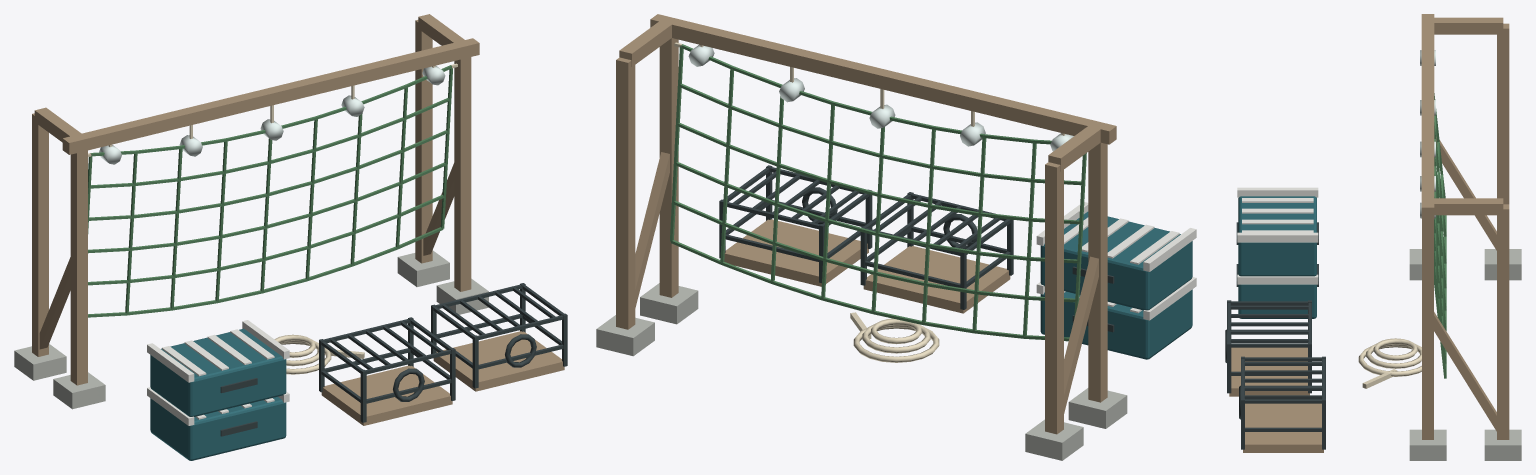
The model's file is ENV_BeachFishingGear.fbx.
3 views of the same model, side by side, from view 1: azimuth 30°, elevation 25°; view 2: azimuth 150°, elevation 25°; view 3: azimuth 270°, elevation 25° (orthographic). The views are drawn at different scales.
Visible parts, largest first — view 1: ENV_BeachFishingGear_Root_Visual; view 2: ENV_BeachFishingGear_Root_Visual; view 3: ENV_BeachFishingGear_Root_Visual.
Boxes of the visible parts, bbox=[...] form: ENV_BeachFishingGear_Root_Visual: bbox=[14, 14, 567, 460]; ENV_BeachFishingGear_Root_Visual: bbox=[596, 14, 1196, 460]; ENV_BeachFishingGear_Root_Visual: bbox=[1225, 14, 1521, 460].
Bounding box in the file's own units: 402 × 241 × 256.
